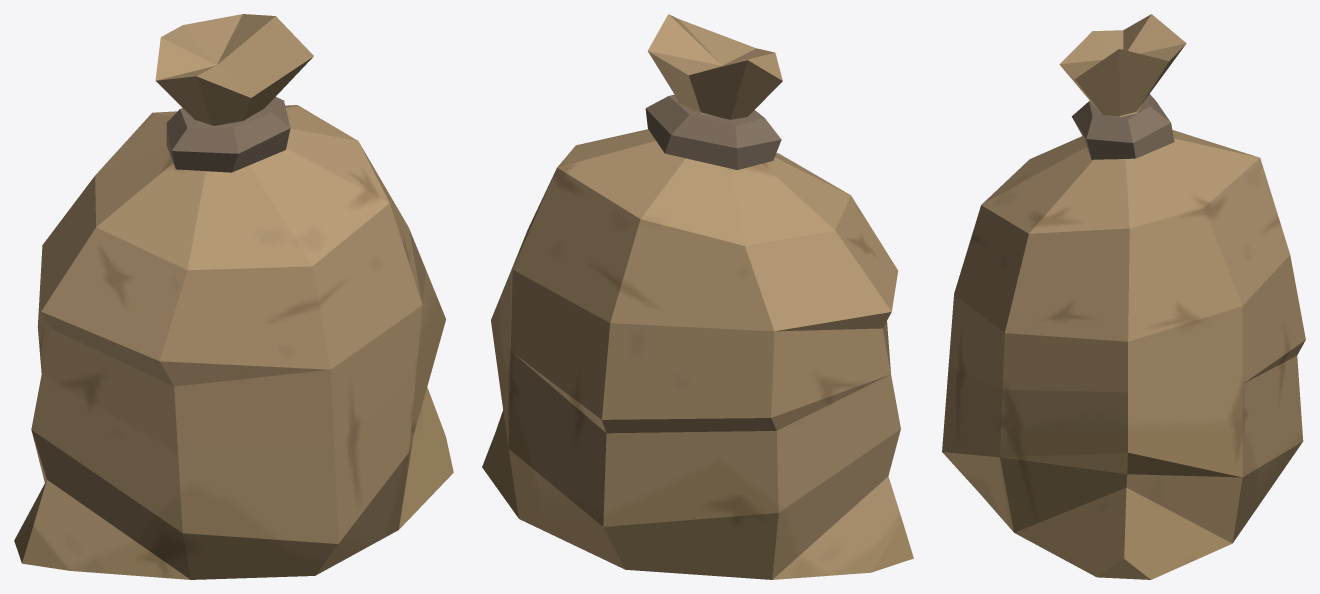
Rendered from SM_Prop_Sack_03.fbx.
3 renders of one model, left to right at view 1: azimuth 30°, elevation 25°; view 2: azimuth 150°, elevation 25°; view 3: azimuth 270°, elevation 25°, orthographic. The views are drawn at different scales.
Visible parts, largest first — view 1: SM_Prop_Sack_03; view 2: SM_Prop_Sack_03; view 3: SM_Prop_Sack_03.
Part boxes in pixels (bbox=[...]): SM_Prop_Sack_03: bbox=[14, 14, 453, 579]; SM_Prop_Sack_03: bbox=[482, 14, 913, 579]; SM_Prop_Sack_03: bbox=[942, 14, 1305, 579].
Bounding box in the file's own units: 48.19 × 54.97 × 38.35.
